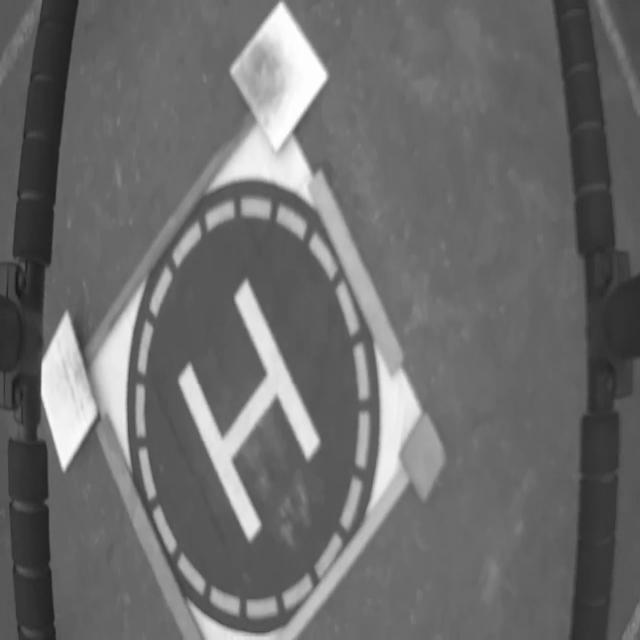Helipad: (177, 282, 322, 548)
